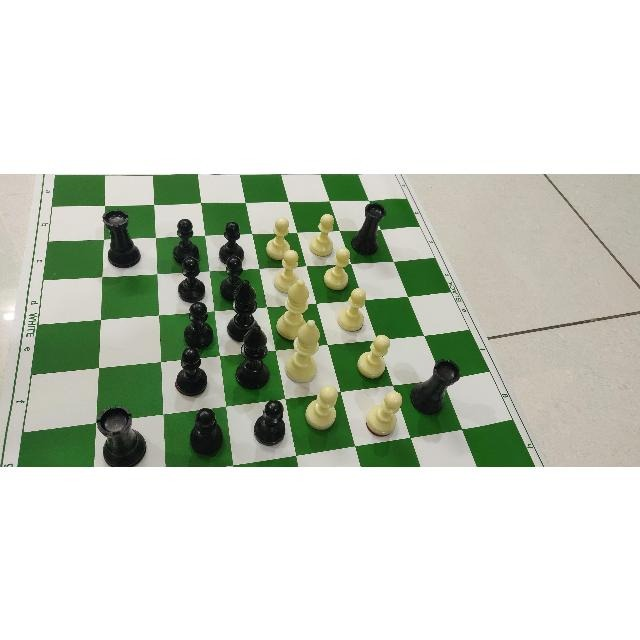black-bishop: (234, 323, 270, 389), (226, 278, 260, 342)
black-pawn: (173, 346, 208, 396), (188, 407, 224, 455), (253, 398, 287, 446), (177, 255, 209, 303), (183, 300, 214, 349), (171, 217, 200, 264), (218, 220, 246, 264), (219, 253, 245, 300)
black-rook: (96, 403, 146, 466), (409, 357, 461, 417), (102, 207, 141, 268), (350, 201, 387, 255)
white-bishop: (283, 318, 321, 384), (274, 277, 309, 339)
white-pawn: (365, 389, 403, 436), (304, 383, 338, 431), (357, 334, 391, 380), (336, 286, 367, 332), (323, 245, 351, 290), (273, 248, 299, 294), (265, 215, 291, 260), (309, 212, 335, 256)
